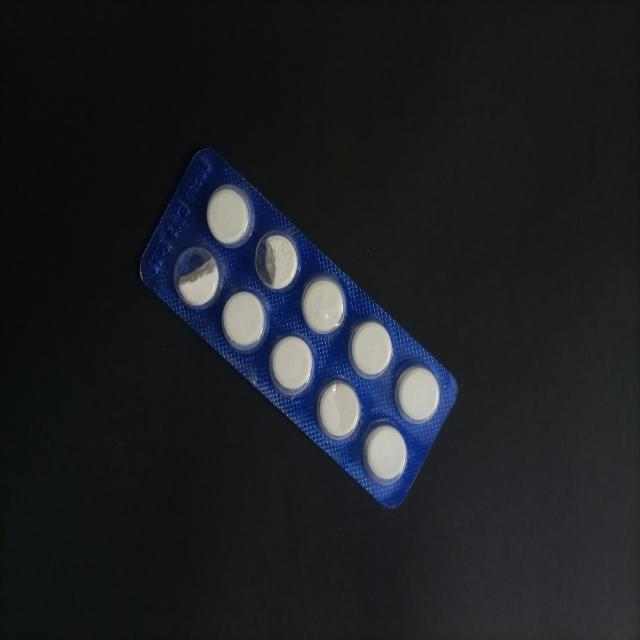defect: (171, 244, 224, 312), (253, 228, 303, 294)
